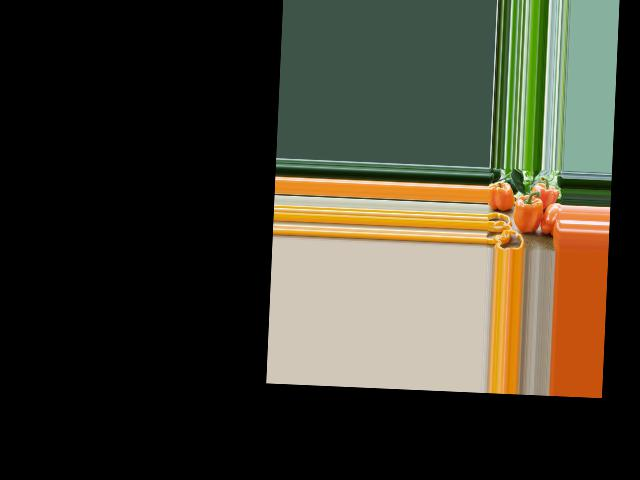bell_pepper: (540, 201, 561, 237)
